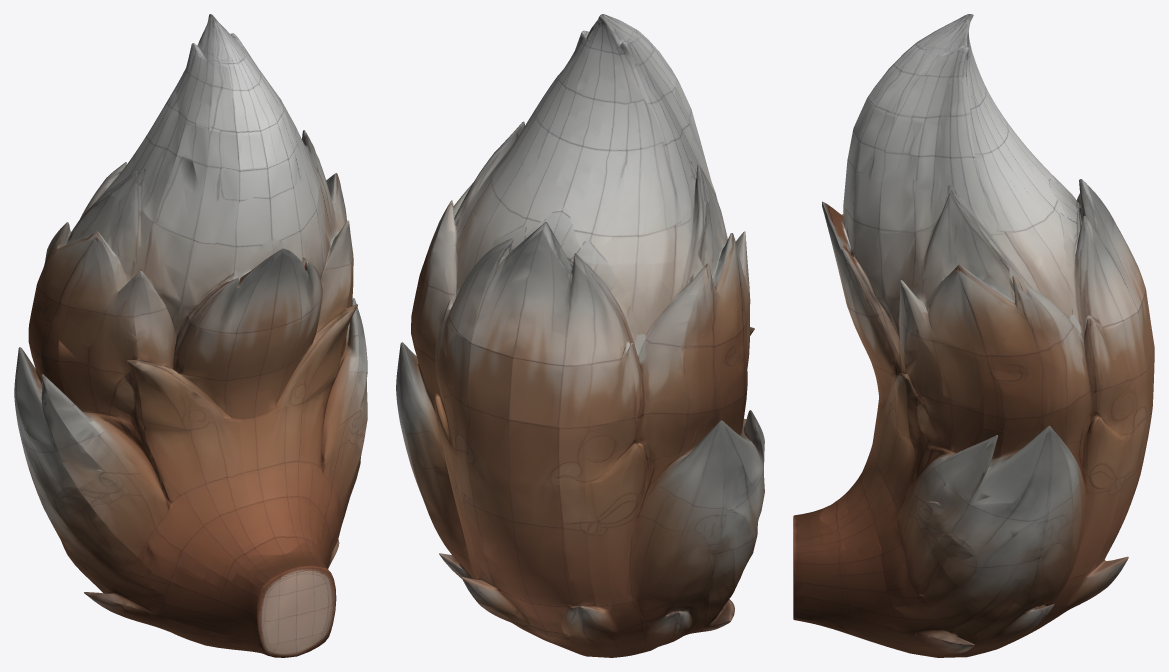
The model's file is huwei_game.glb.
3 views of the same model, side by side, from view 1: azimuth 30°, elevation 25°; view 2: azimuth 150°, elevation 25°; view 3: azimuth 270°, elevation 25° (orthographic). The views are drawn at different scales.
Visible parts, largest first — view 1: node_0; view 2: node_0; view 3: node_0.
Part boxes in pixels (<box>): node_0: <box>14,14,367,657</box>; node_0: <box>396,14,764,657</box>; node_0: <box>793,14,1154,657</box>.
Size of the model in its own units: 0.6573 by 1.17 by 0.6032.
1 material, 1 textured.
